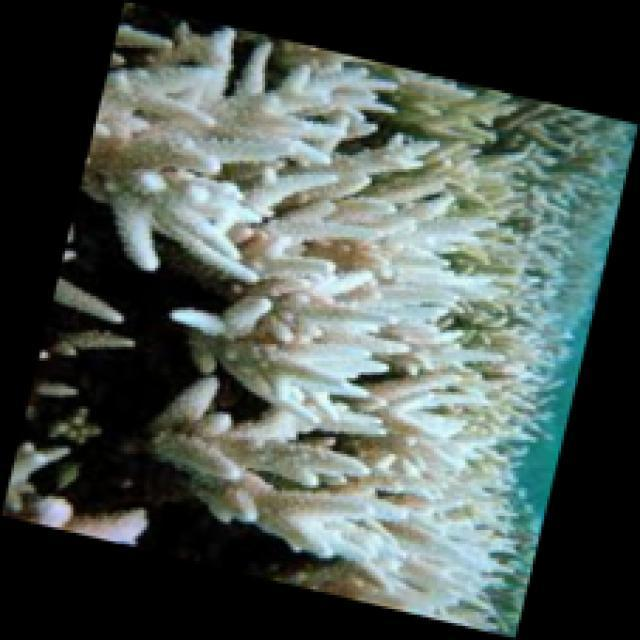Bleached: (156, 15, 613, 640), (79, 63, 338, 281), (1, 440, 149, 568), (44, 263, 129, 328)
